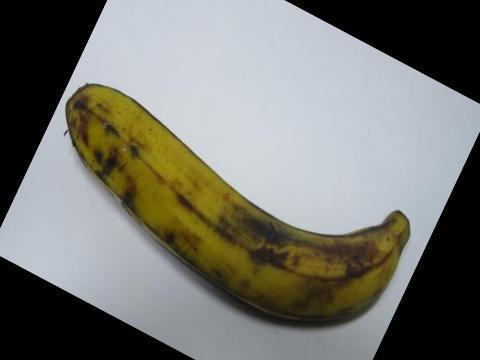overripe: (61, 77, 415, 332)
